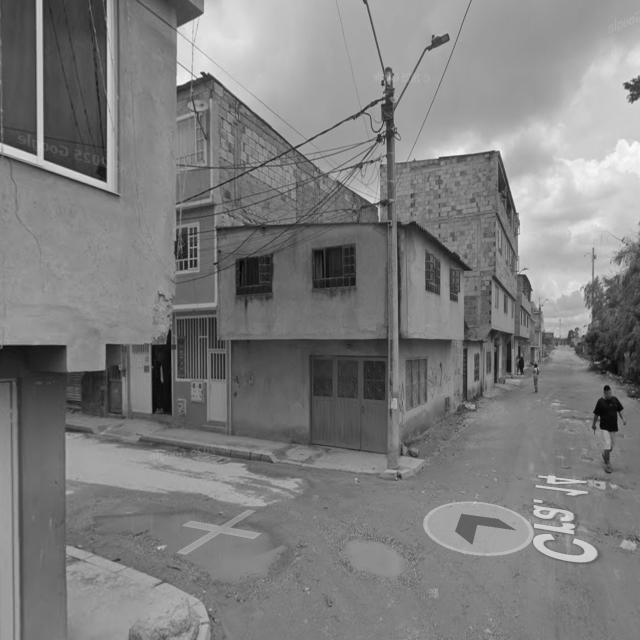Fachada: (127, 73, 377, 432), (216, 222, 470, 457), (396, 151, 533, 401)
Poste: (379, 53, 399, 470)
